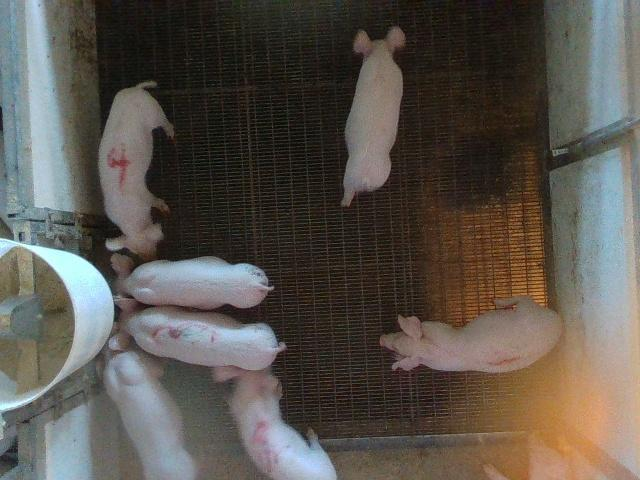pig-1: (380, 296, 562, 372)
pig-3: (109, 298, 286, 371)
pig-4: (99, 81, 174, 260)
pig-5: (212, 366, 336, 479)
